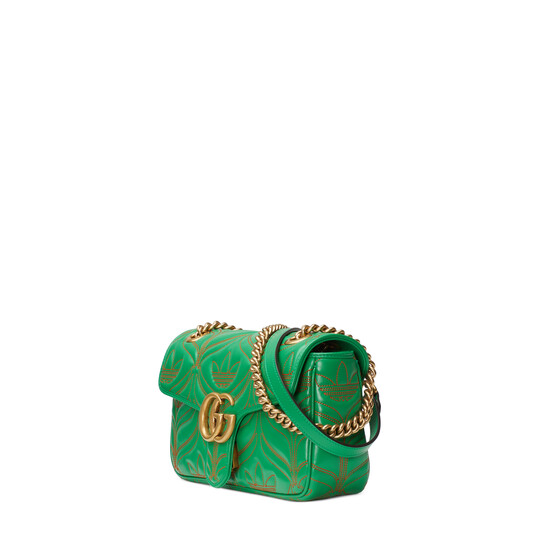Gucci: (161, 313, 381, 504), (188, 380, 244, 446)
